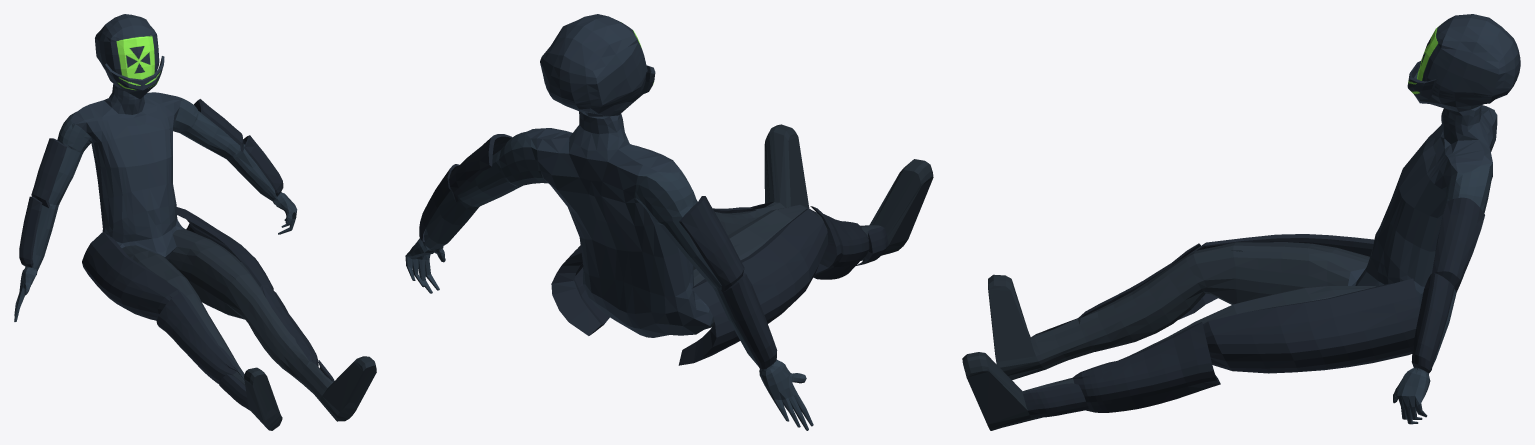
File: Bastion_Die_000006.obj
The picture shows the model from 3 angles, left to right: view 1: azimuth 30°, elevation 25°; view 2: azimuth 150°, elevation 25°; view 3: azimuth 270°, elevation 25°; orthographic projection. The views are drawn at different scales.
Visible parts, largest first — view 1: Cube.002; view 2: Cube.002; view 3: Cube.002.
Part boxes in pixels (x1=…): Cube.002: x1=14, y1=14, x2=376, y2=430; Cube.002: x1=405, y1=14, x2=933, y2=430; Cube.002: x1=962, y1=14, x2=1520, y2=430.
Bounding box in the file's own units: 2.31 × 2.24 × 2.93.
